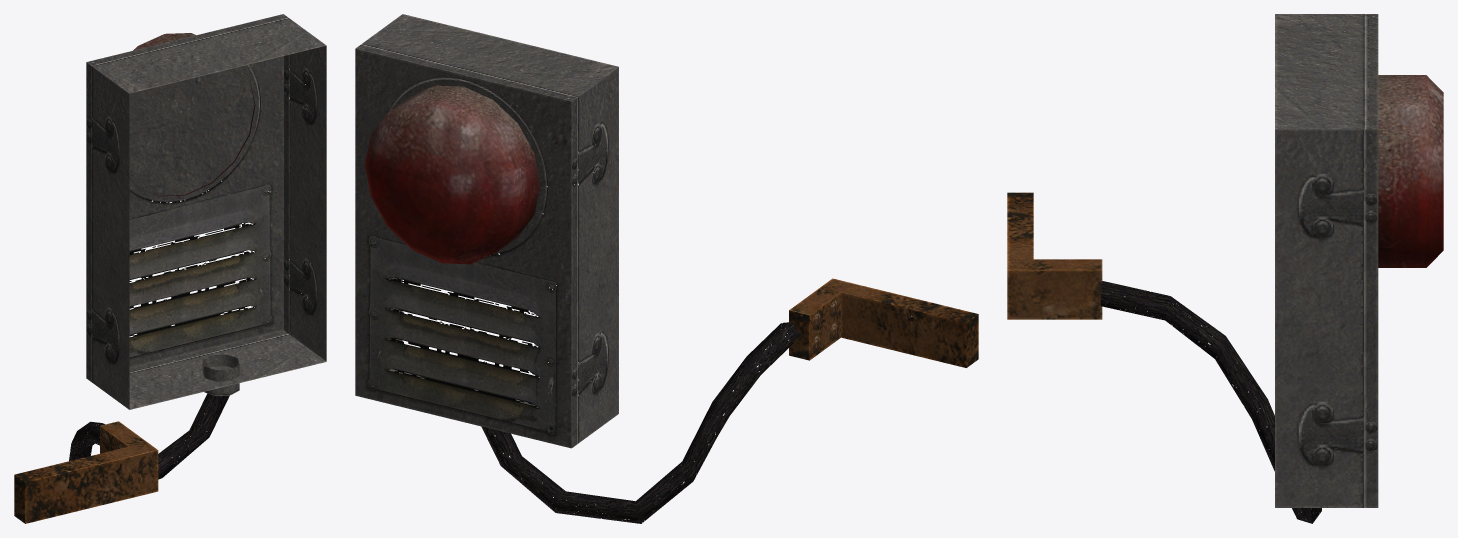
File: factory_corridor_01_door_alarmbox.DAE
3 views of the same model, side by side, from view 1: azimuth 30°, elevation 25°; view 2: azimuth 150°, elevation 25°; view 3: azimuth 270°, elevation 25° (orthographic). The views are drawn at different scales.
Parts seen in each view (by area): view 1: Cylinder014; view 2: Cylinder014; view 3: Cylinder014.
Part boxes in pixels (x1,y1,x2,y2): Cylinder014: [14, 14, 326, 523]; Cylinder014: [355, 14, 978, 523]; Cylinder014: [1007, 14, 1443, 523].
Bounding box in the file's own units: 0.6317 × 0.5923 × 0.4826.
